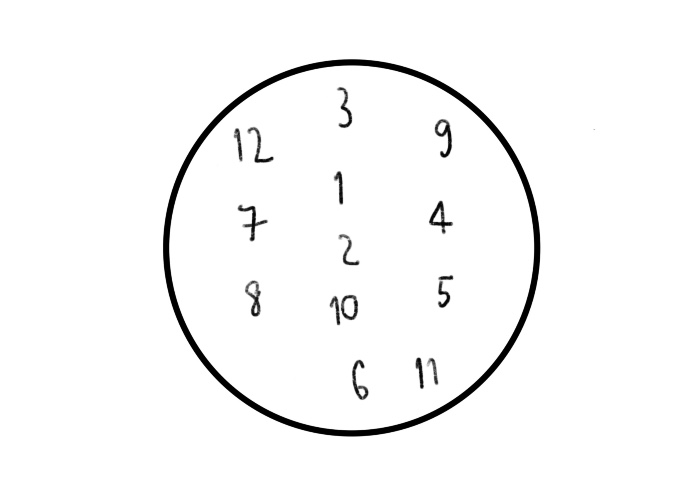eight: (243, 272, 264, 316)
eleven: (414, 354, 442, 389)
five: (433, 273, 458, 312)
four: (426, 200, 454, 236)
nine: (432, 114, 456, 163)
one: (330, 169, 350, 208)
seven: (234, 196, 271, 247)
six: (352, 357, 371, 403)
ten: (325, 291, 360, 330)
three: (331, 80, 353, 129)
twelve: (229, 121, 275, 167)
two: (337, 229, 363, 268)
